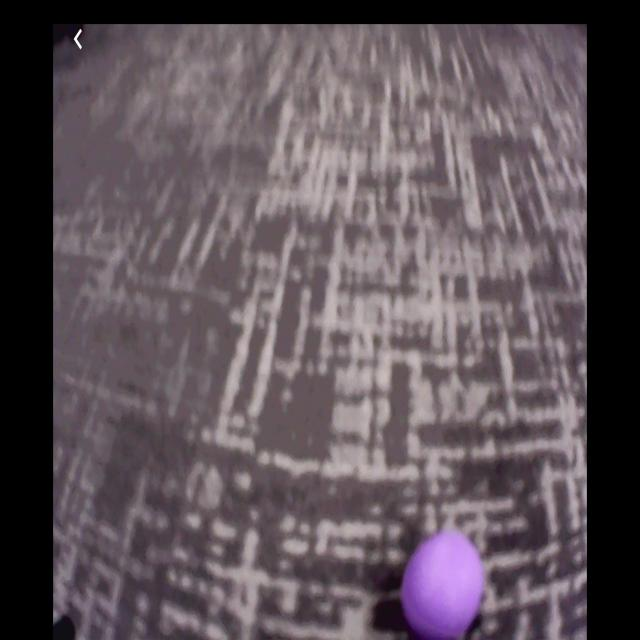ball: (403, 529, 484, 640)
